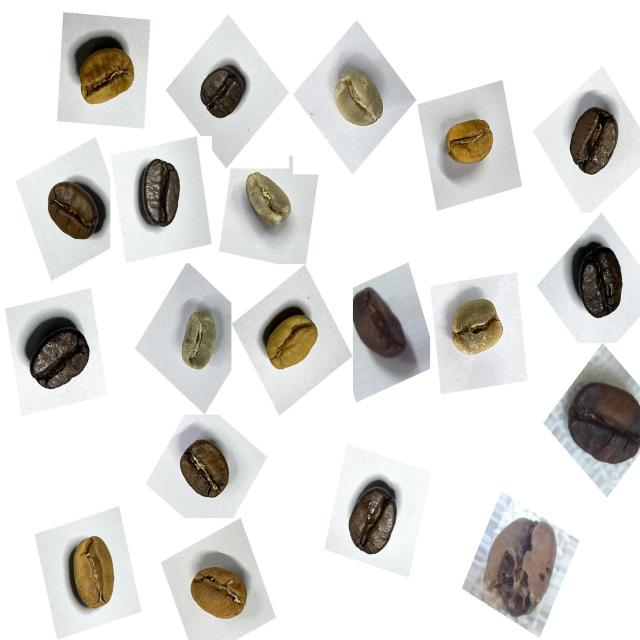bad: (476, 507, 570, 622), (557, 365, 638, 477), (346, 280, 413, 376)
dark: (18, 306, 101, 404), (336, 468, 409, 567), (561, 233, 633, 332), (557, 96, 630, 188), (128, 151, 192, 241), (190, 52, 253, 132)
green: (438, 286, 514, 373), (317, 61, 392, 143), (234, 166, 302, 242), (171, 301, 226, 385)
light: (50, 521, 128, 624), (67, 23, 146, 122), (252, 296, 329, 386), (179, 547, 257, 633), (438, 104, 507, 182)
medium: (36, 169, 111, 255), (169, 428, 241, 513)
